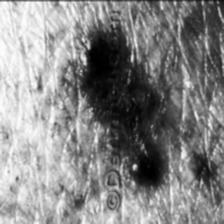Potentially Malignant Skin Tumors: (124, 66, 158, 186), (72, 30, 106, 126)
